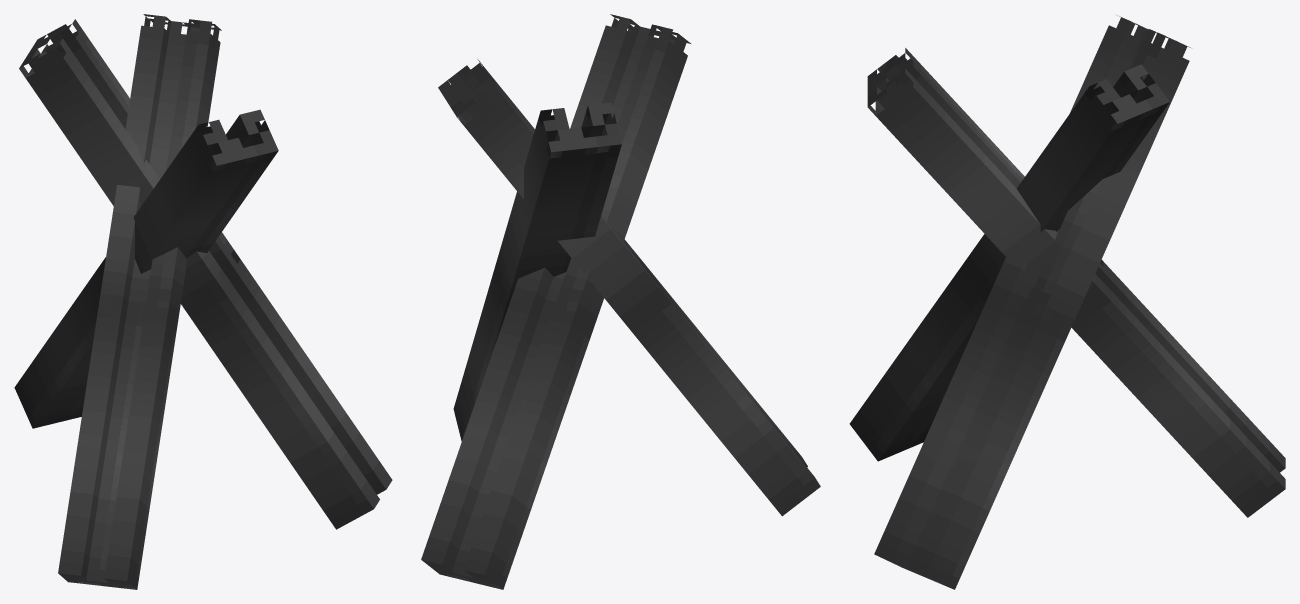
The model's file is tank_trap.obj.
The picture shows the model from 3 angles, left to right: view 1: azimuth 30°, elevation 25°; view 2: azimuth 150°, elevation 25°; view 3: azimuth 270°, elevation 25°; orthographic projection. The views are drawn at different scales.
Visible parts, largest first — view 1: Main; view 2: Main; view 3: Main.
Boxes of the visible parts, bbox=[...] form: Main: bbox=[14, 14, 392, 589]; Main: bbox=[421, 14, 820, 589]; Main: bbox=[849, 15, 1285, 589].
Bounding box in the file's own units: 1.05 × 1.3 × 1.11.
